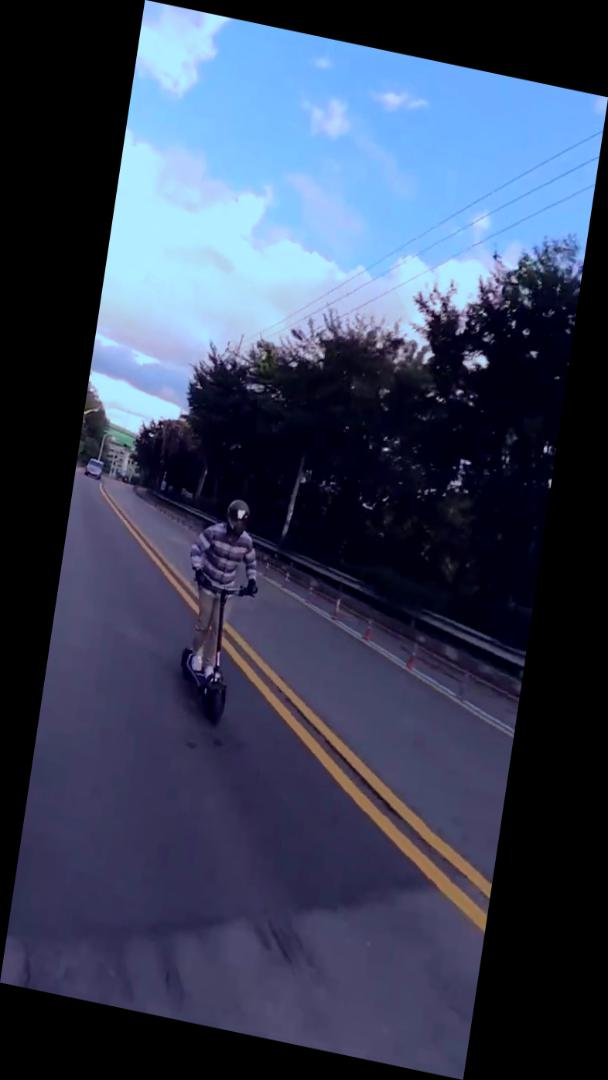helmet: (164, 484, 274, 728)
